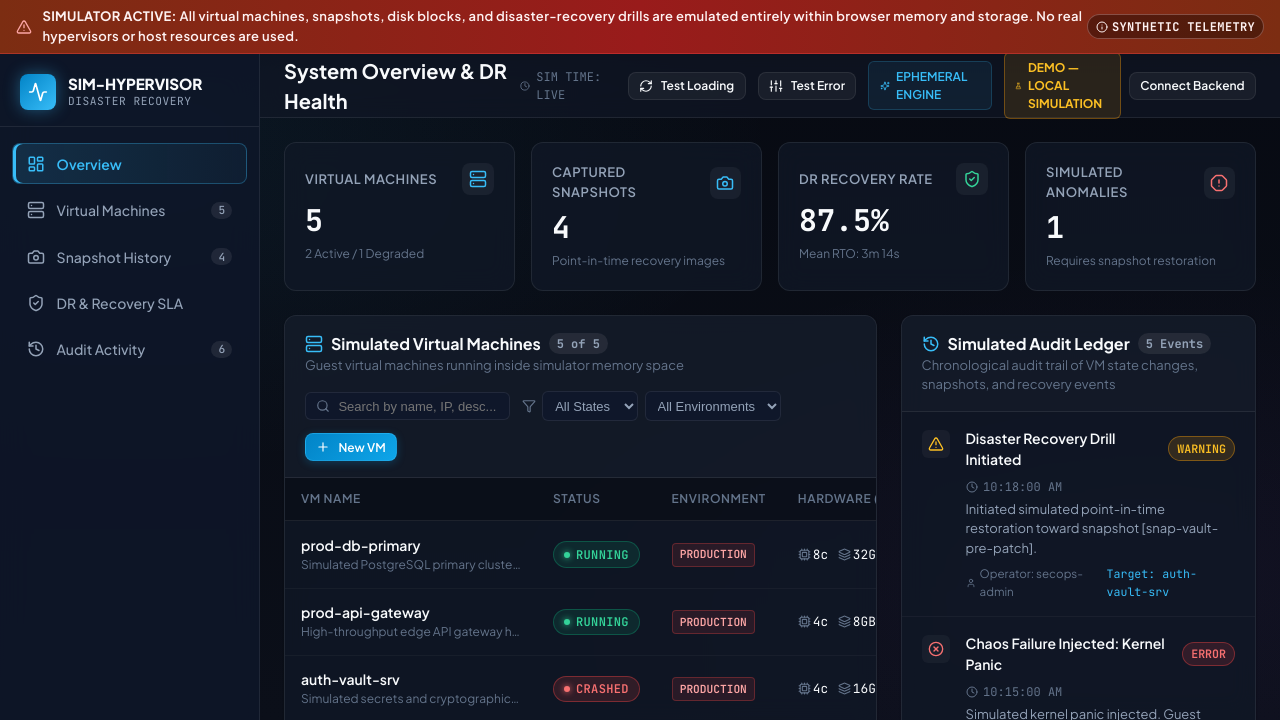
it: VM Lifecycle UI Integration Flow › opens Create VM modal and provisions a new simulated VM
The image size is (1280, 720).
# Click "+ New VM"
Step 1. Click the button with test id "create-vm-open-btn" → (351, 447), box top-left (305, 433), bottom-right (397, 462)
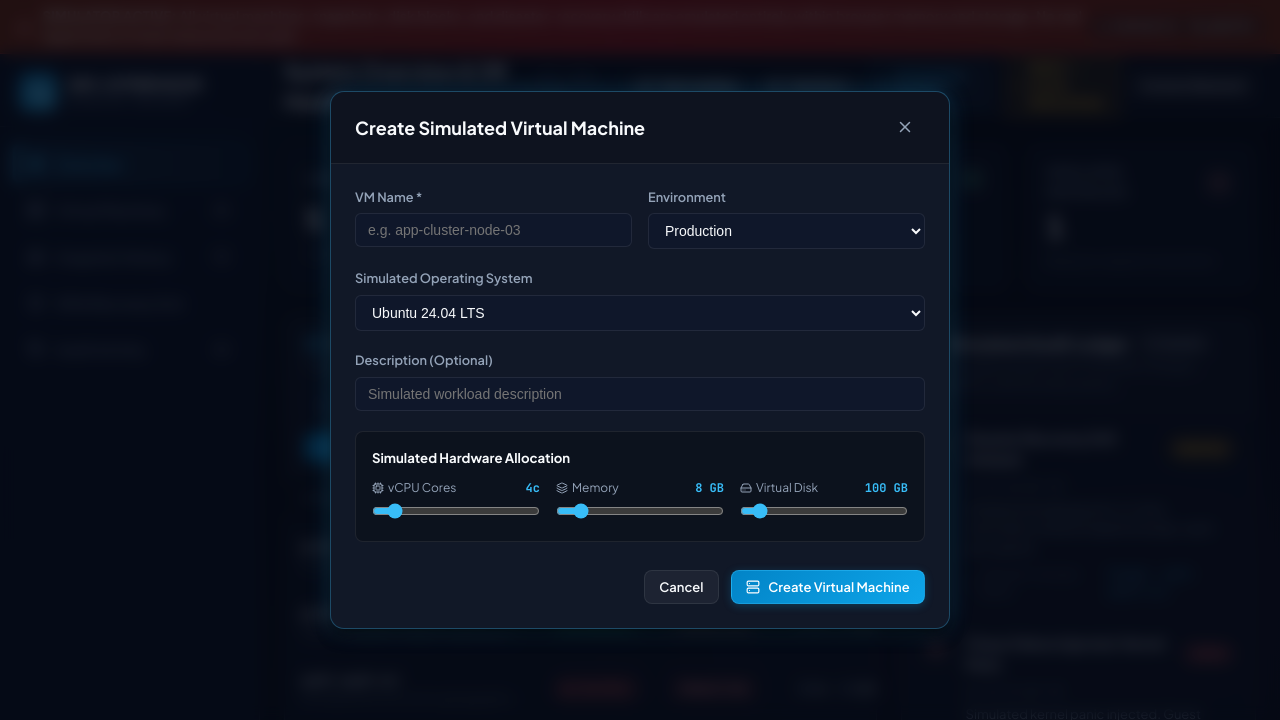
Result: the heading "Create Simulated Virtual Machine" is shown at top-left (355, 114), bottom-right (645, 141)
# Fill form
Step 2. Type "analytics-worker-09" into the field with test id "create-vm-name-input" → (494, 230), box top-left (355, 213), bottom-right (632, 247)
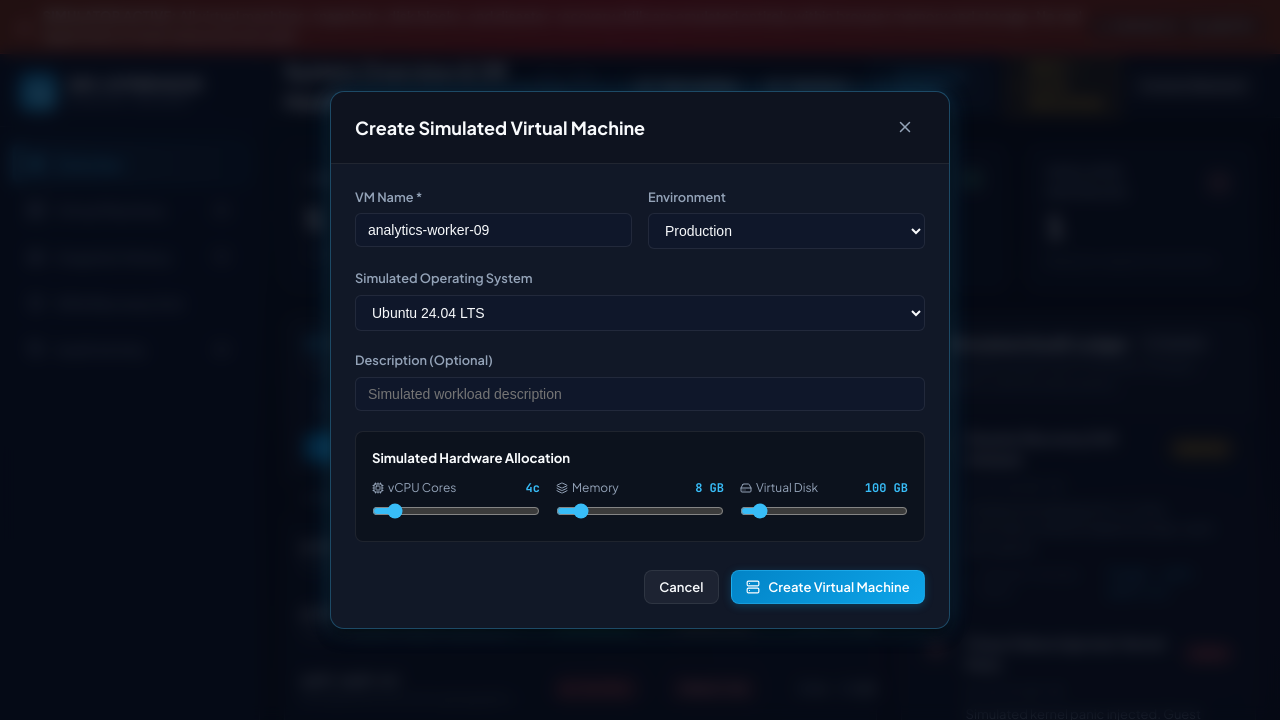
# Submit form
Step 3. Click the button with test id "create-vm-submit-btn" → (828, 587), box top-left (731, 570), bottom-right (925, 604)
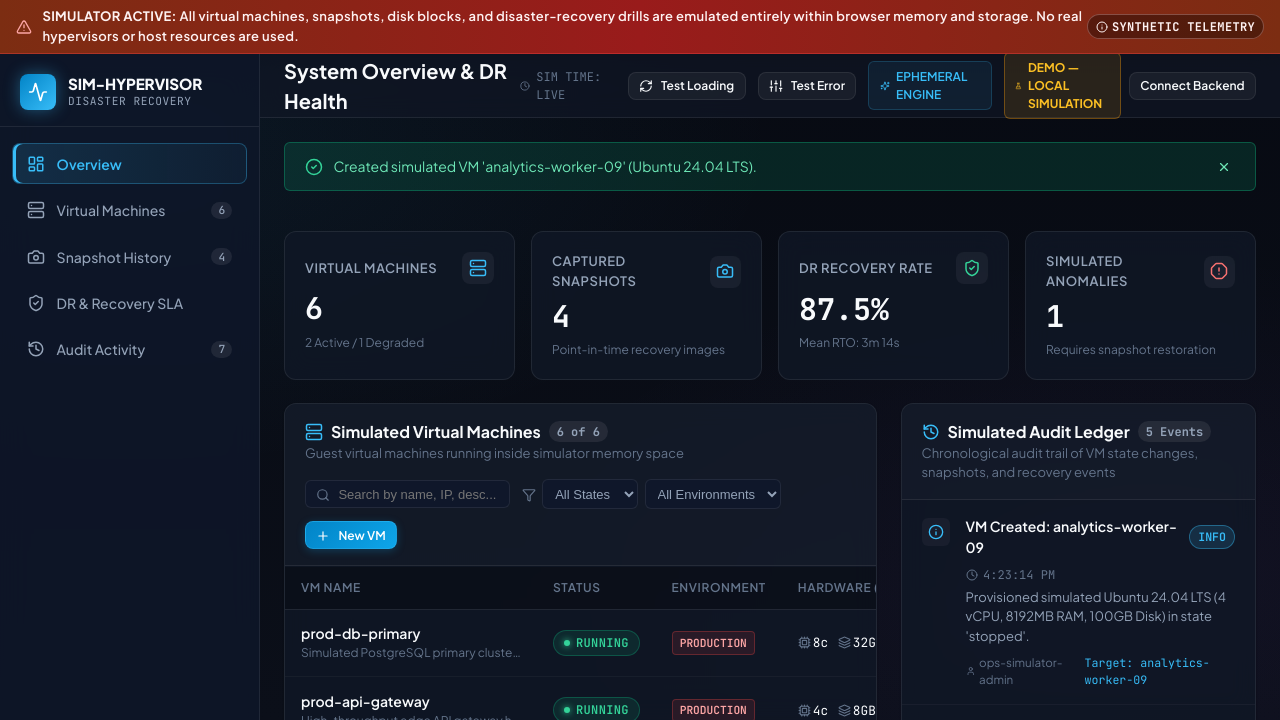
Result: the element with test id "lifecycle-toast-success" shows "Created simulated VM 'analytics-worker-09'" at top-left (333, 157), bottom-right (757, 175)
